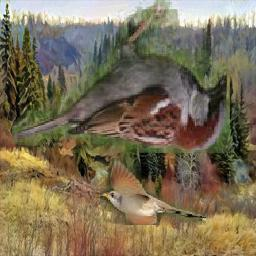Cuckoo: (100, 159, 206, 226)
Sparrow: (12, 0, 230, 153)
